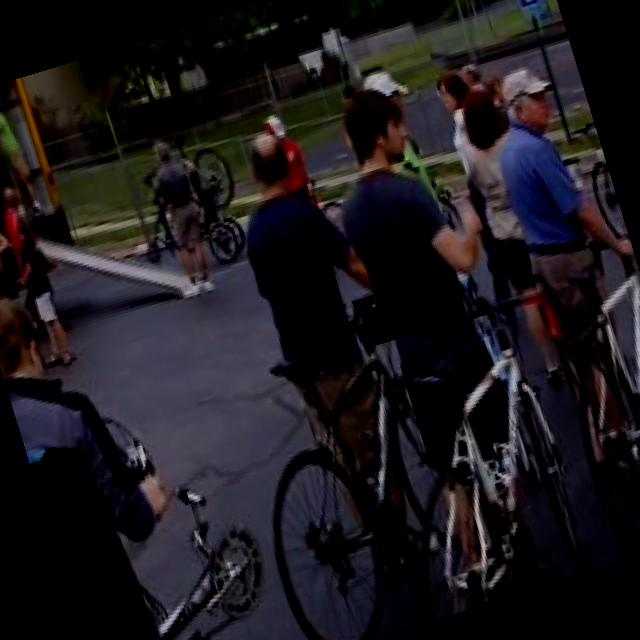Vehicle: (0, 76, 74, 273)
